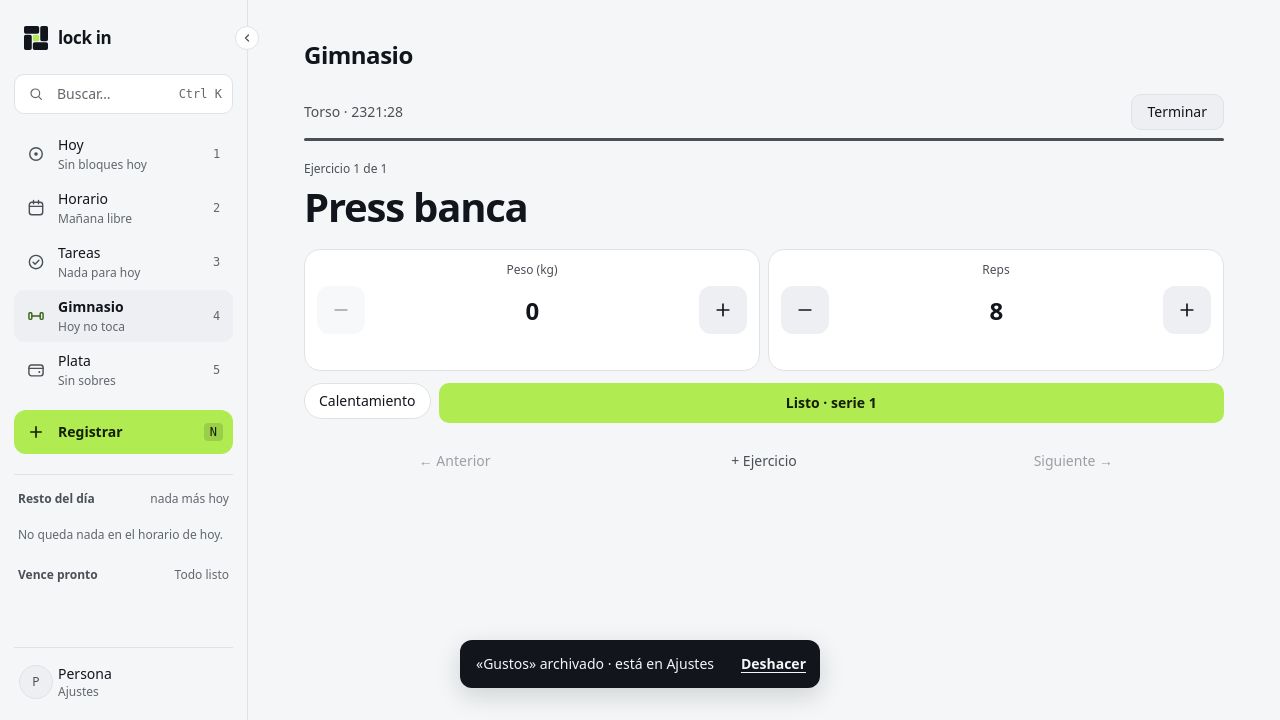
Test: cáscara › Sesión: sin barra inferior, y «Listo» anota la serie con lo de los steppers
Expected: the heading "Press banca" is shown, [304, 179, 528, 234]
Click the button named "Más 2,5 kg" at (723, 310), box [699, 286, 747, 334]
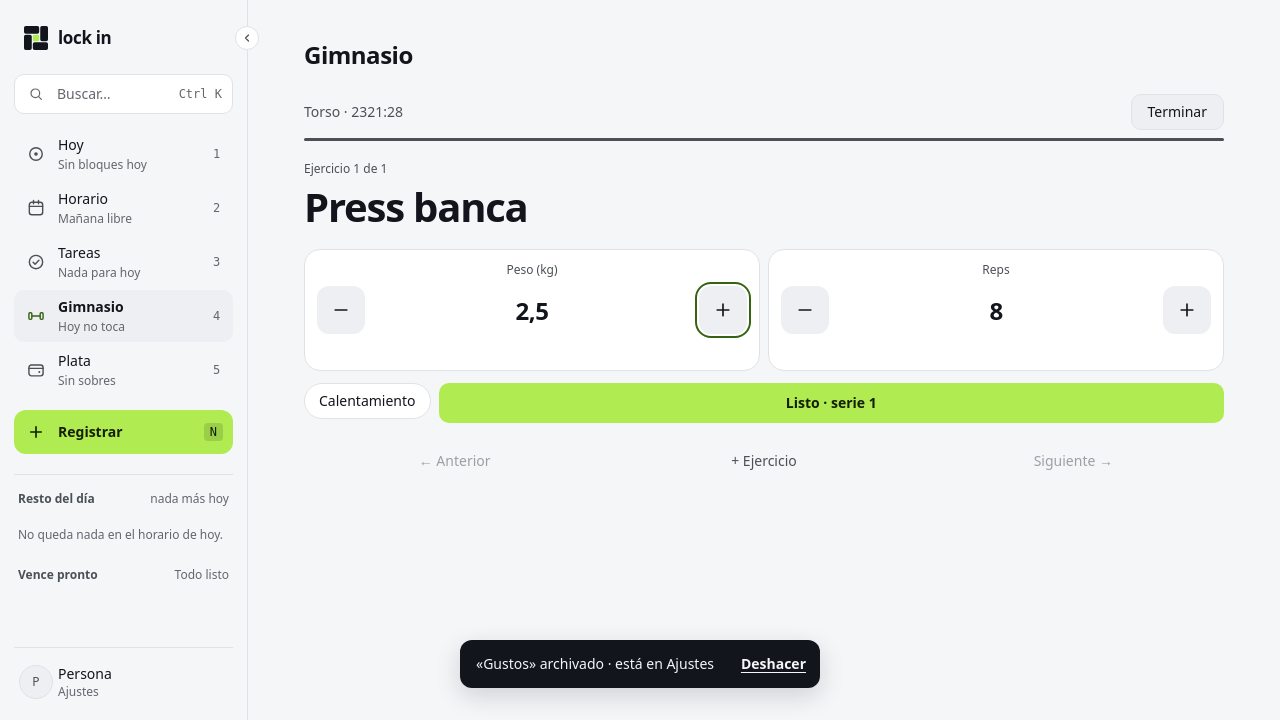
Click the button "Listo · serie 1" at (831, 403), box [438, 383, 1224, 423]
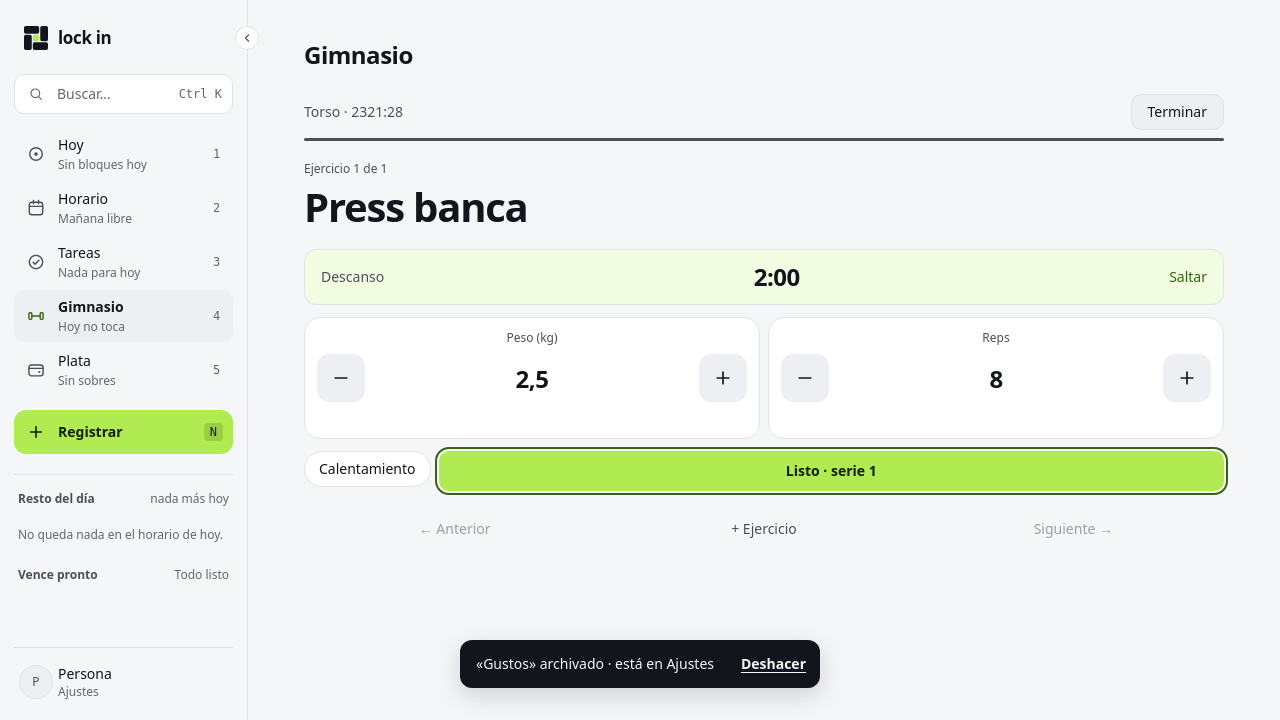
Result: the text "2:00" is shown at [754, 262, 800, 292]
